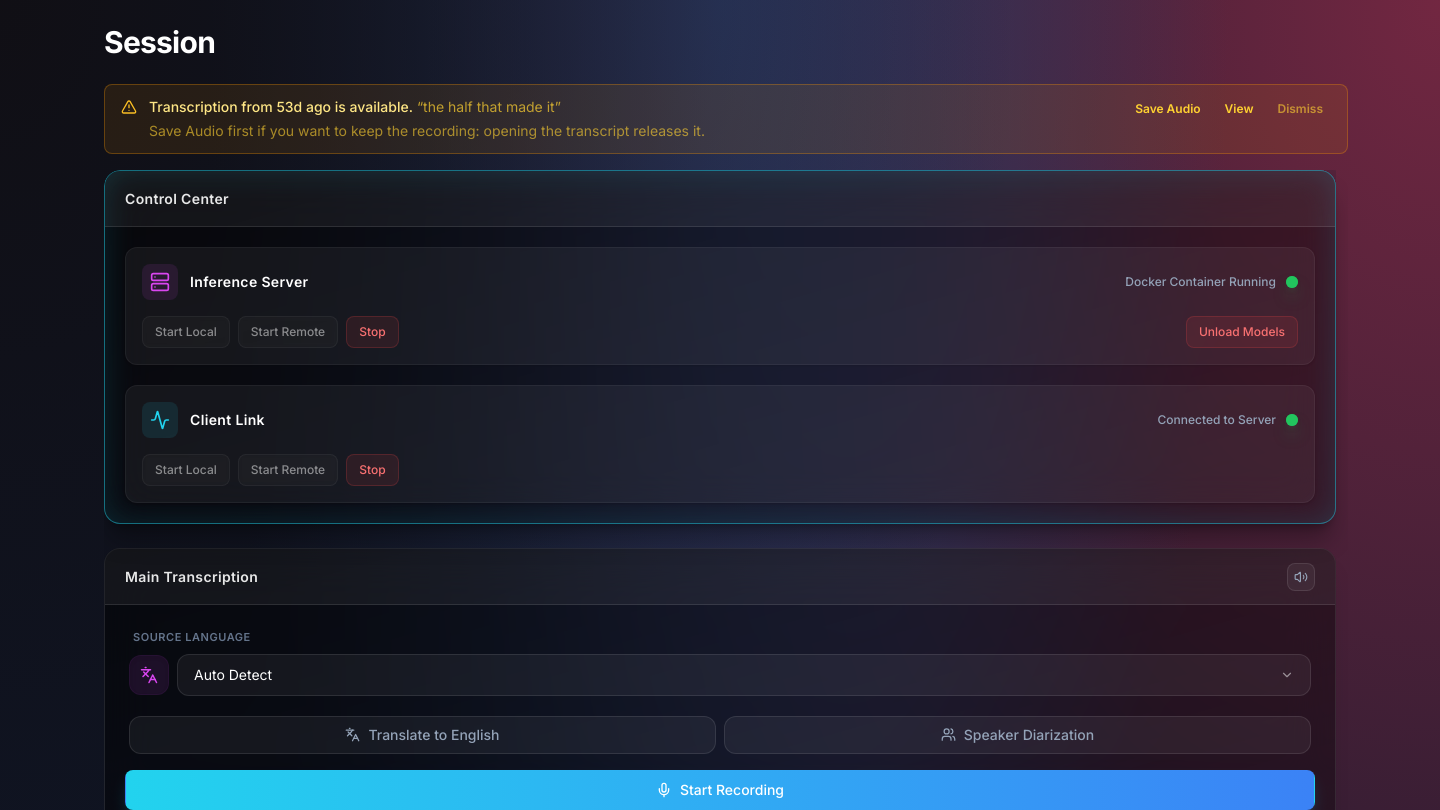
Test: SessionView - recovery banner refresh › re-checks after a Dismiss so the next queued job surfaces immediately
Expected: the text "“the half that made it”" is shown, x1=417 y1=98 x2=561 y2=115
Click the button "Dismiss" at (1300, 109), box x1=1270 y1=97 x2=1331 y2=121
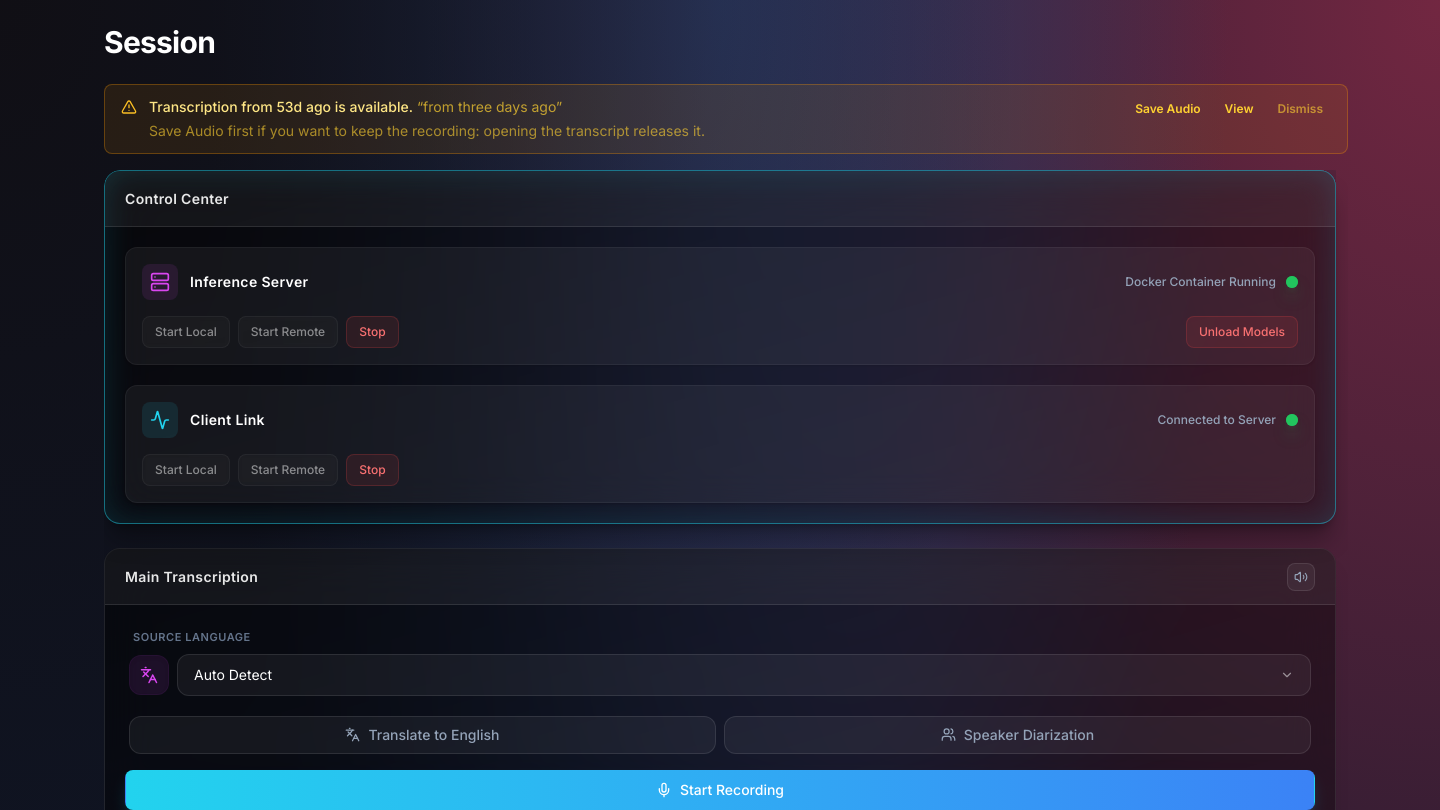
Expected: the text "the half that made it" is gone
Expected: the text "“from three days ago”" is shown, x1=417 y1=98 x2=562 y2=115
